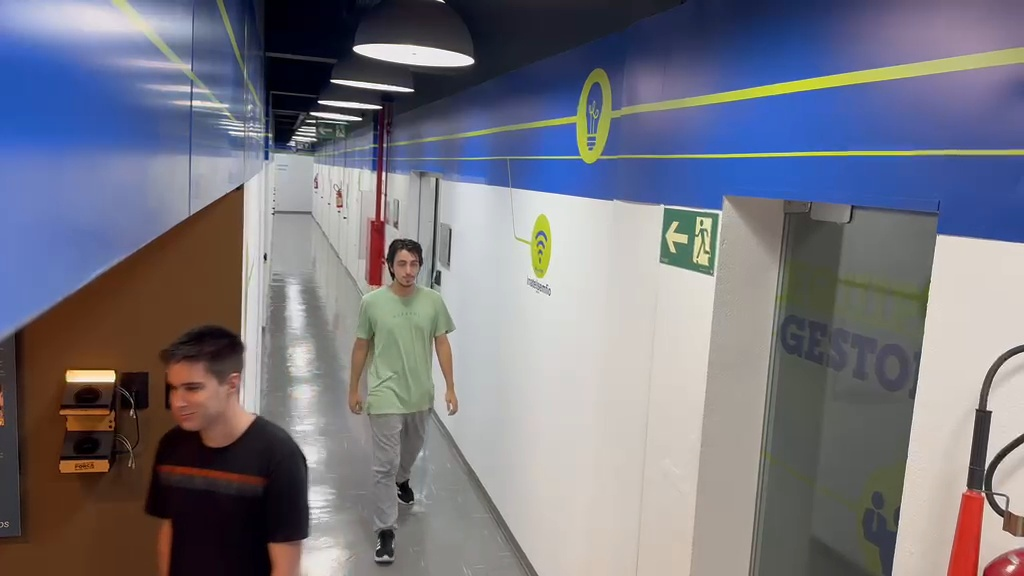person: (144, 324, 312, 573), (348, 237, 459, 516)
